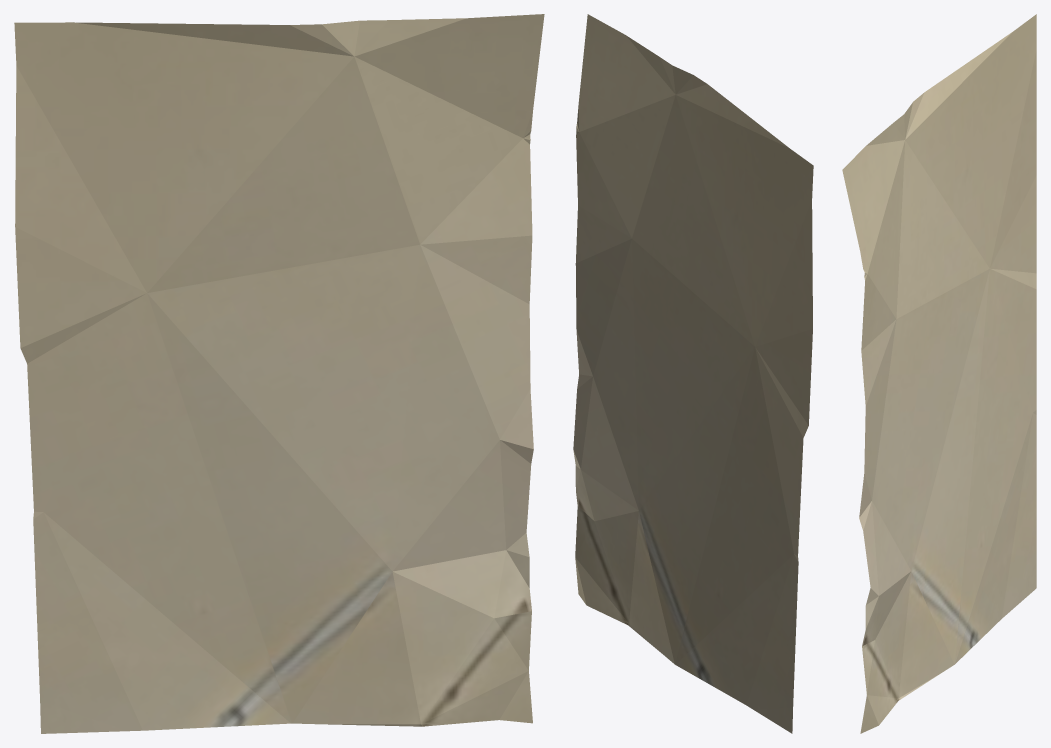
3 renders of one model, left to right at view 1: azimuth 30°, elevation 25°; view 2: azimuth 150°, elevation 25°; view 3: azimuth 270°, elevation 25°, orthographic. The views are drawn at different scales.
Size of the model in its own units: 0.9924 by 1.67 by 0.5231.
Materials: 2 (2 with a texture image).
